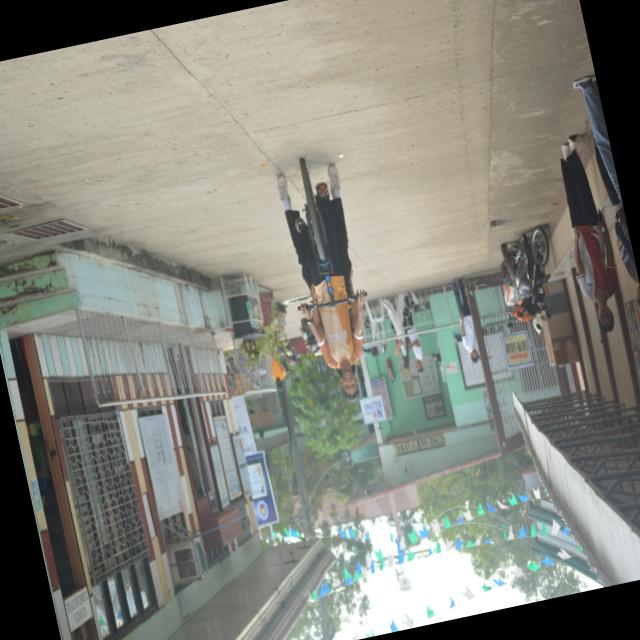person: (560, 135, 616, 331), (301, 291, 363, 402), (572, 76, 620, 196), (451, 277, 478, 362), (382, 293, 408, 368), (615, 237, 639, 307), (270, 357, 285, 390)
